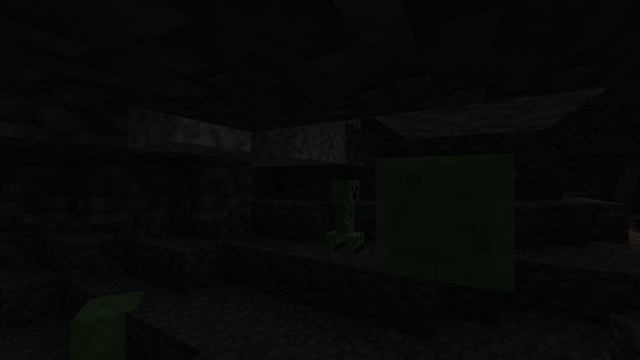creepers: (327, 176, 361, 253)
slimes: (369, 147, 512, 295), (69, 288, 151, 359)
